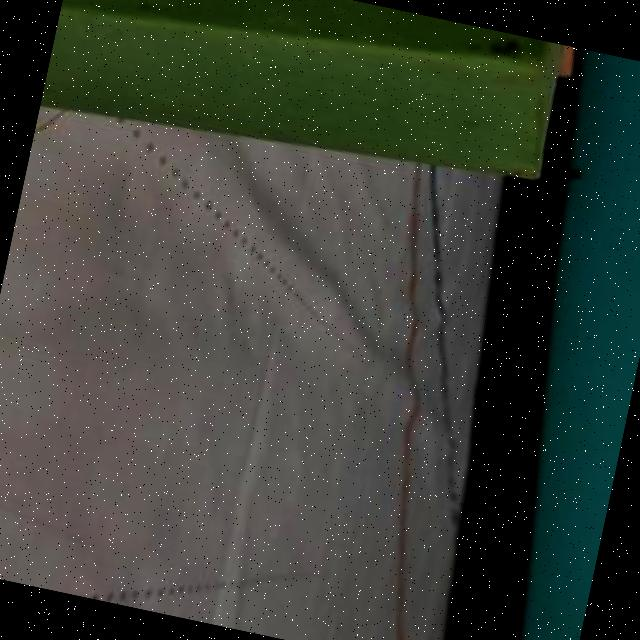greenbox: (37, 0, 570, 215)
